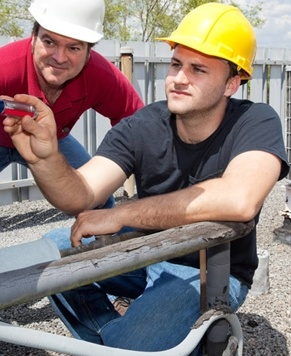boots: (0, 324, 25, 356)
hard-hat: (27, 0, 105, 44)
